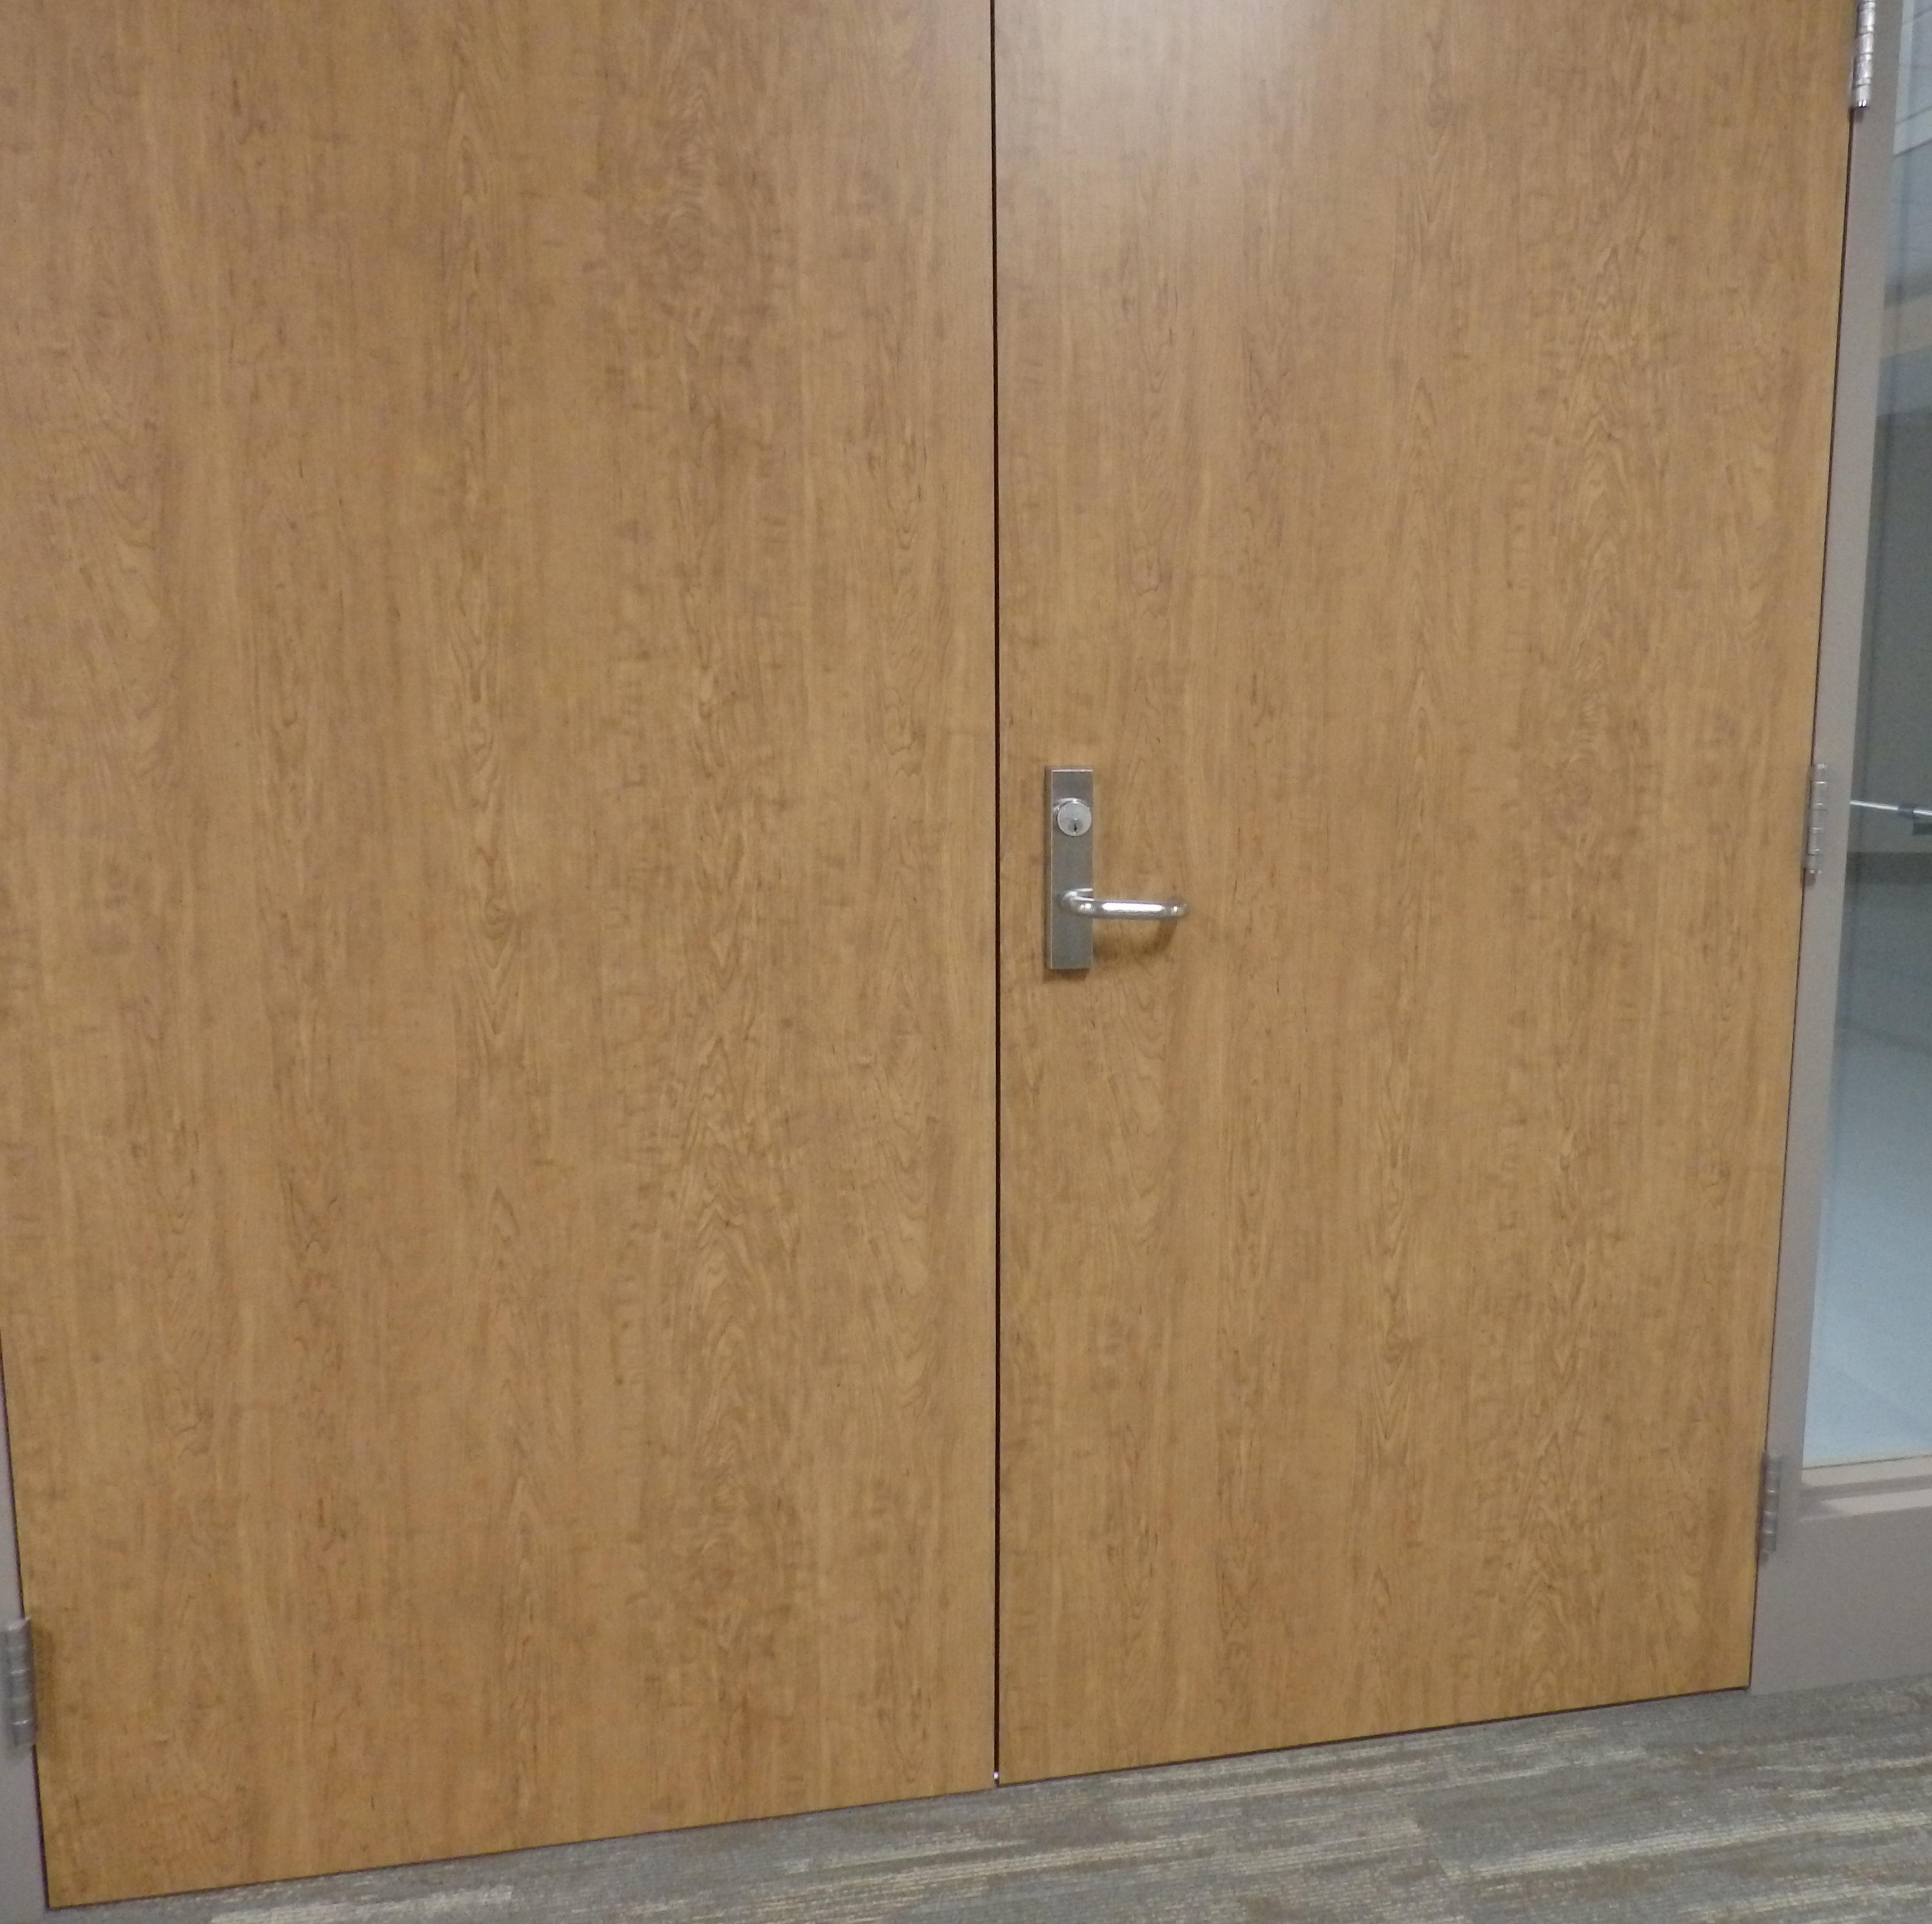door: (2, 0, 1768, 1748)
